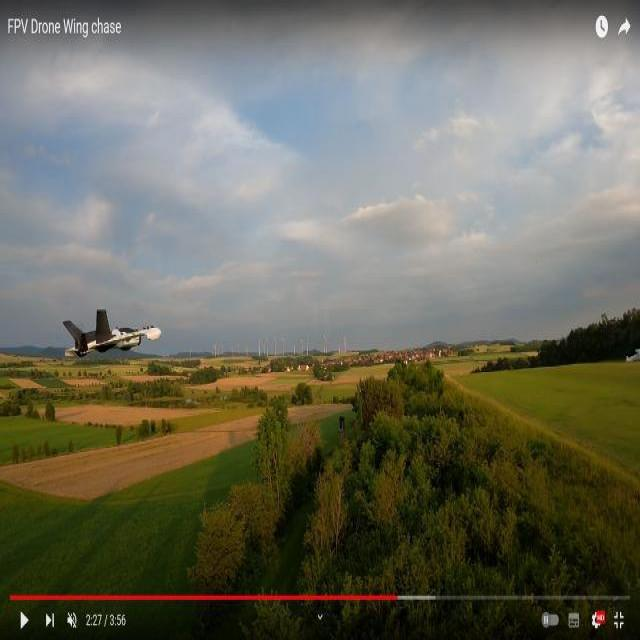iha: (29, 336, 91, 351)
